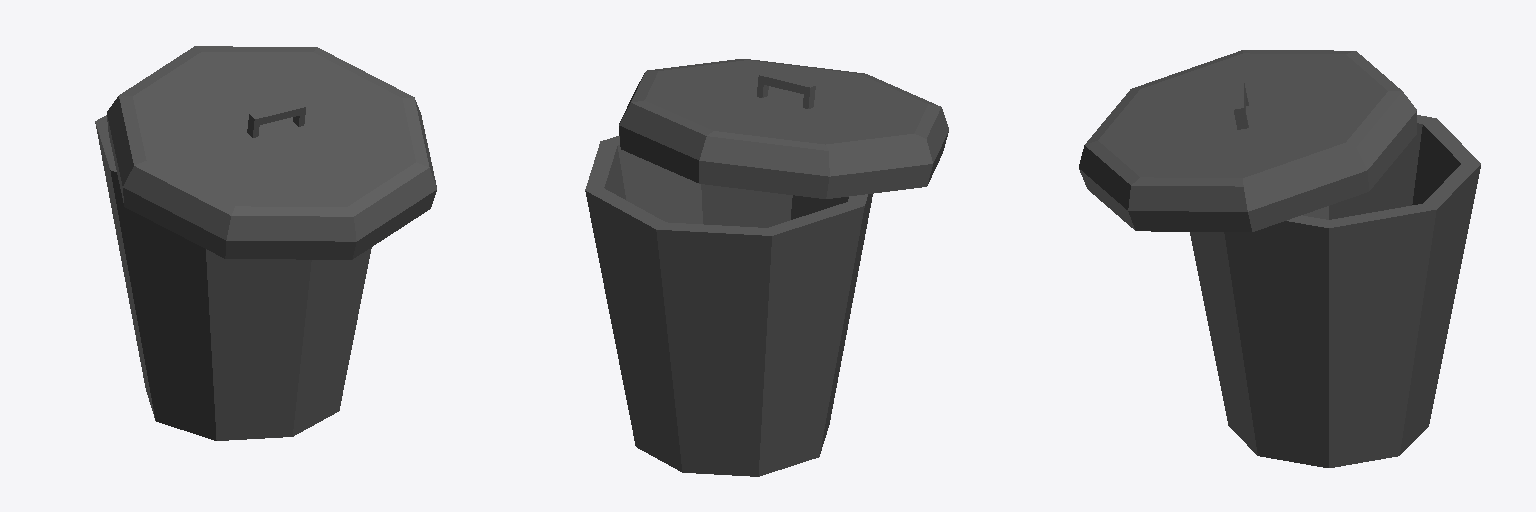
Rendered from trashcan-hinged.obj.
The picture shows the model from 3 angles: view 1: azimuth 30°, elevation 25°; view 2: azimuth 150°, elevation 25°; view 3: azimuth 270°, elevation 25°; orthographic projection.
Visible parts, largest first — view 1: TrashCan-Hinge.001_Cylinder.029, TrashCan-Hinge_Cylinder.028, Cube.034_Cube.022; view 2: TrashCan-Hinge_Cylinder.028, TrashCan-Hinge.001_Cylinder.029, Cube.034_Cube.022; view 3: TrashCan-Hinge_Cylinder.028, TrashCan-Hinge.001_Cylinder.029, Cube.034_Cube.022.
Part boxes in pixels (x1,y1,x2,y2): TrashCan-Hinge.001_Cylinder.029: (107,46,436,259); TrashCan-Hinge_Cylinder.028: (95,115,371,440); Cube.034_Cube.022: (247,101,305,137); TrashCan-Hinge_Cylinder.028: (585,136,872,476); TrashCan-Hinge.001_Cylinder.029: (619,59,948,198); Cube.034_Cube.022: (757,73,815,108); TrashCan-Hinge_Cylinder.028: (1190,115,1480,467); TrashCan-Hinge.001_Cylinder.029: (1079,50,1416,231); Cube.034_Cube.022: (1233,83,1248,129).
Bounding box in the file's own units: 1.3 × 1.38 × 1.52.